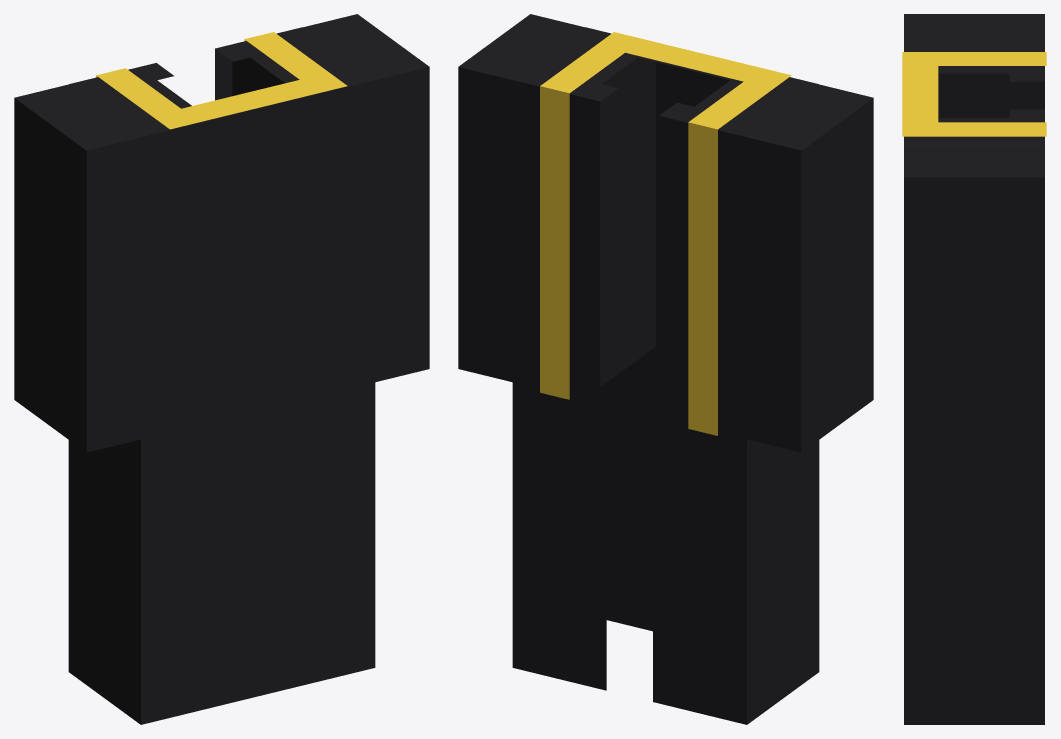
Rendered from simple_suits_graduation_toga.geo.gltf.
3 views of the same model, side by side, from view 1: azimuth 30°, elevation 25°; view 2: azimuth 150°, elevation 25°; view 3: azimuth 270°, elevation 25° (orthographic). The views are drawn at different scales.
Visible parts, largest first — view 1: body (×2), leftLeg, rightArm, rightLeg, leftArm; view 2: body (×2), rightArm, leftLeg, leftArm, rightLeg; view 3: leftArm, rightLeg, body (×2), rightArm.
Part boxes in pixels (box(x1,y1,x2,y2)): body (×2): box(68, 27, 375, 493); leftLeg: box(68, 444, 266, 724); rightArm: box(14, 80, 191, 452); rightLeg: box(250, 432, 375, 696); leftArm: box(232, 14, 429, 382); body (×2): box(512, 27, 819, 493); rightArm: box(695, 80, 873, 452); leftLeg: box(653, 444, 819, 724); leftArm: box(458, 14, 655, 386); rightLeg: box(512, 377, 658, 690); leftArm: box(904, 118, 1044, 472); rightLeg: box(904, 485, 1044, 724); body (×2): box(902, 39, 1046, 502); rightArm: box(904, 14, 1044, 117).
Size of the model in its own units: 0.7869 by 1.29 by 0.2937.
1 material, 1 textured.
